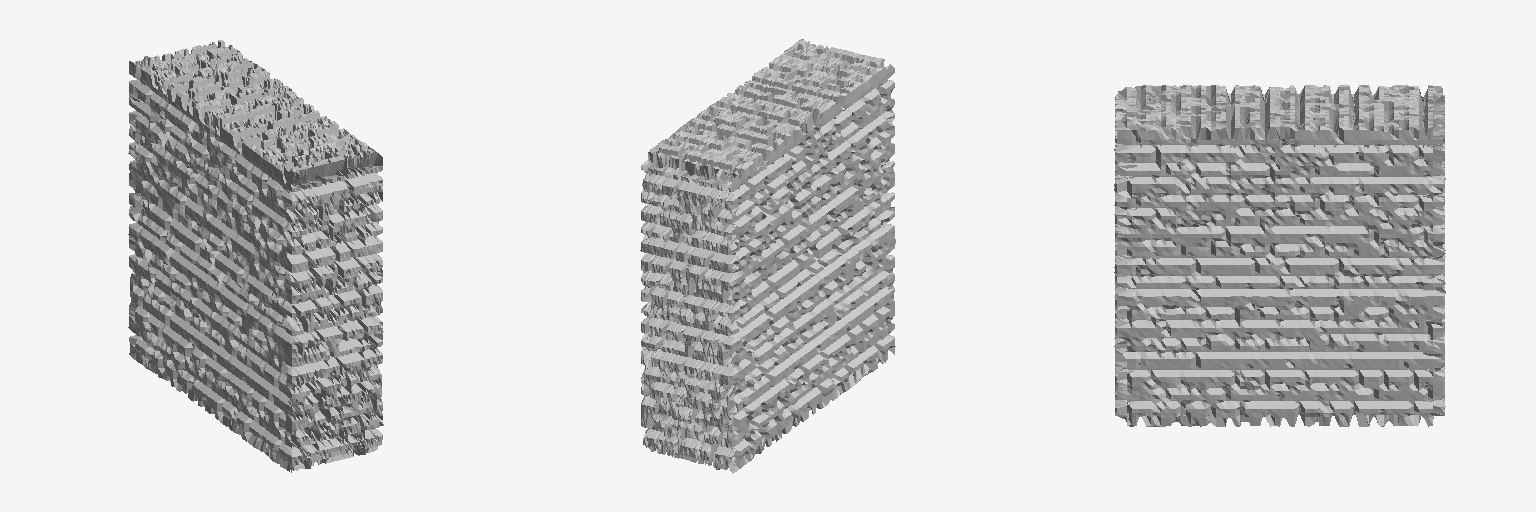
Rendered from brickwall_3d.obj.
3 views of the same model, side by side, from view 1: azimuth 30°, elevation 25°; view 2: azimuth 150°, elevation 25°; view 3: azimuth 270°, elevation 25° (orthographic).
Parts seen in each view (by area): view 1: Cube_Cube.001; view 2: Cube_Cube.001; view 3: Cube_Cube.001.
Part boxes in pixels (x1,y1,x2,y2): Cube_Cube.001: (128, 40, 383, 472); Cube_Cube.001: (640, 39, 895, 473); Cube_Cube.001: (1114, 85, 1445, 426).
Bounding box in the file's own units: 0.6767 × 2.09 × 2.09.